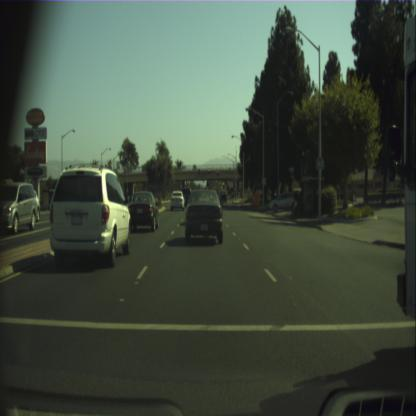Red: (216, 170, 219, 177), (208, 168, 210, 175), (233, 186, 235, 191)
off: (198, 168, 200, 174)
